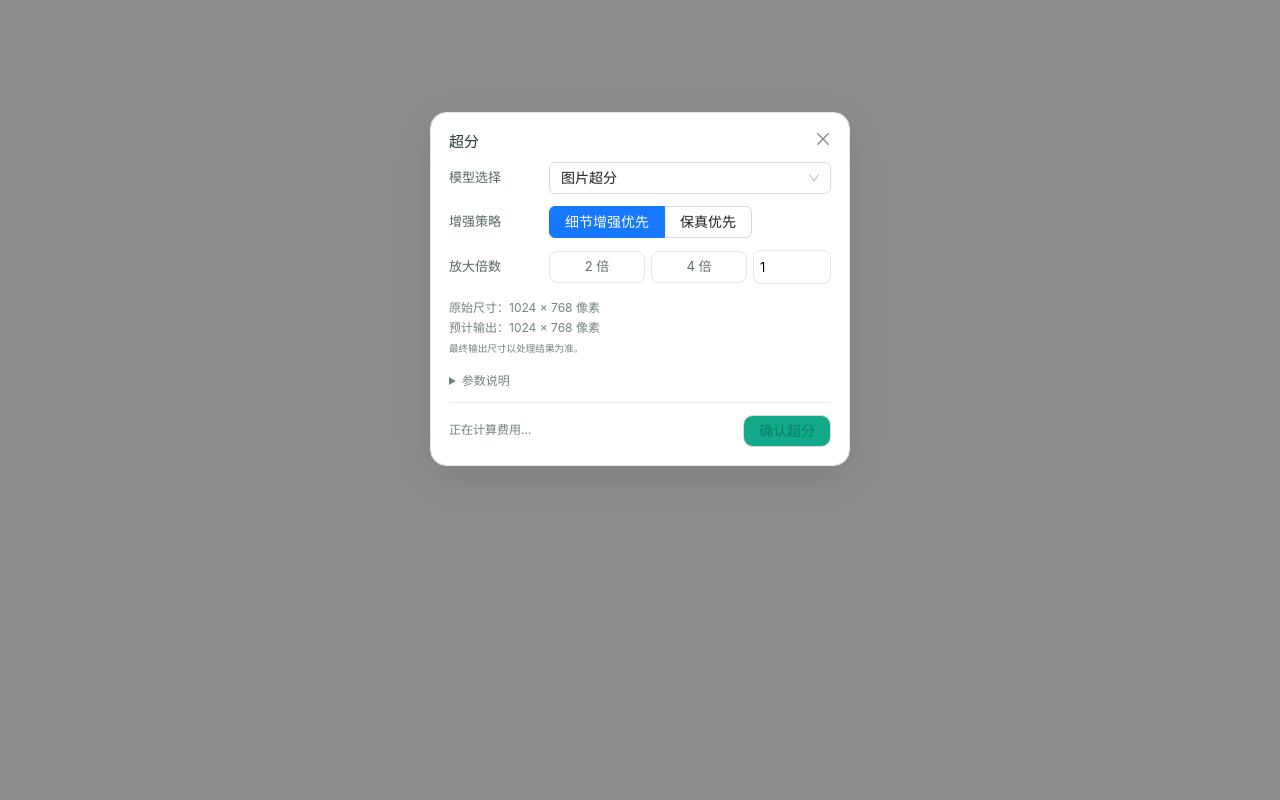
Scenario: 中文策略保留英文提交值，倍率变化更新预计输出尺寸
Check: the text "原始尺寸：1024 × 768 像素" is shown, box [449,300,600,314]
Check: the text "预计输出：1024 × 768 像素" is shown, box [449,320,600,335]
Replace the text in the number field named "放大倍率（倍）" with "2": [792, 266] box [753,250,831,284]
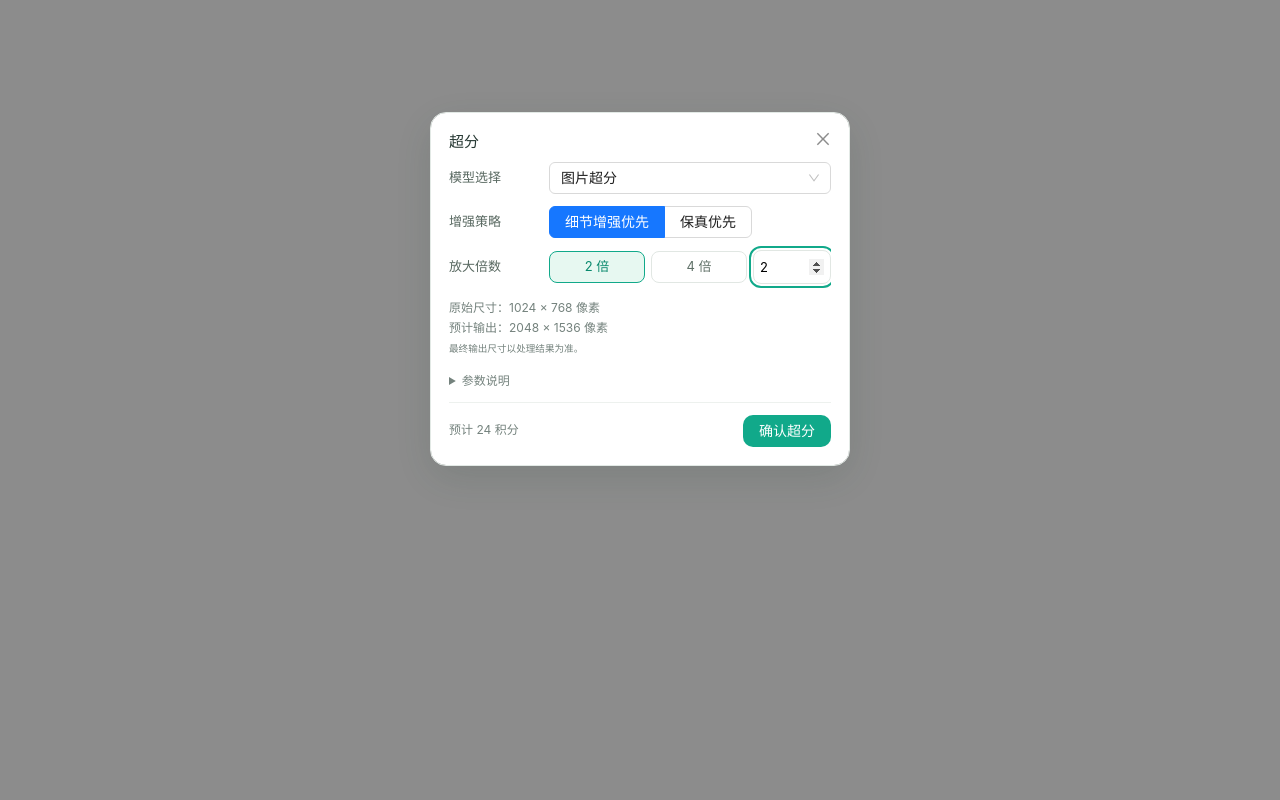
Check: the text "预计输出：2048 × 1536 像素" is shown, box [449,320,608,335]
Check: the button "确认超分" is enabled, box [743,415,831,447]
